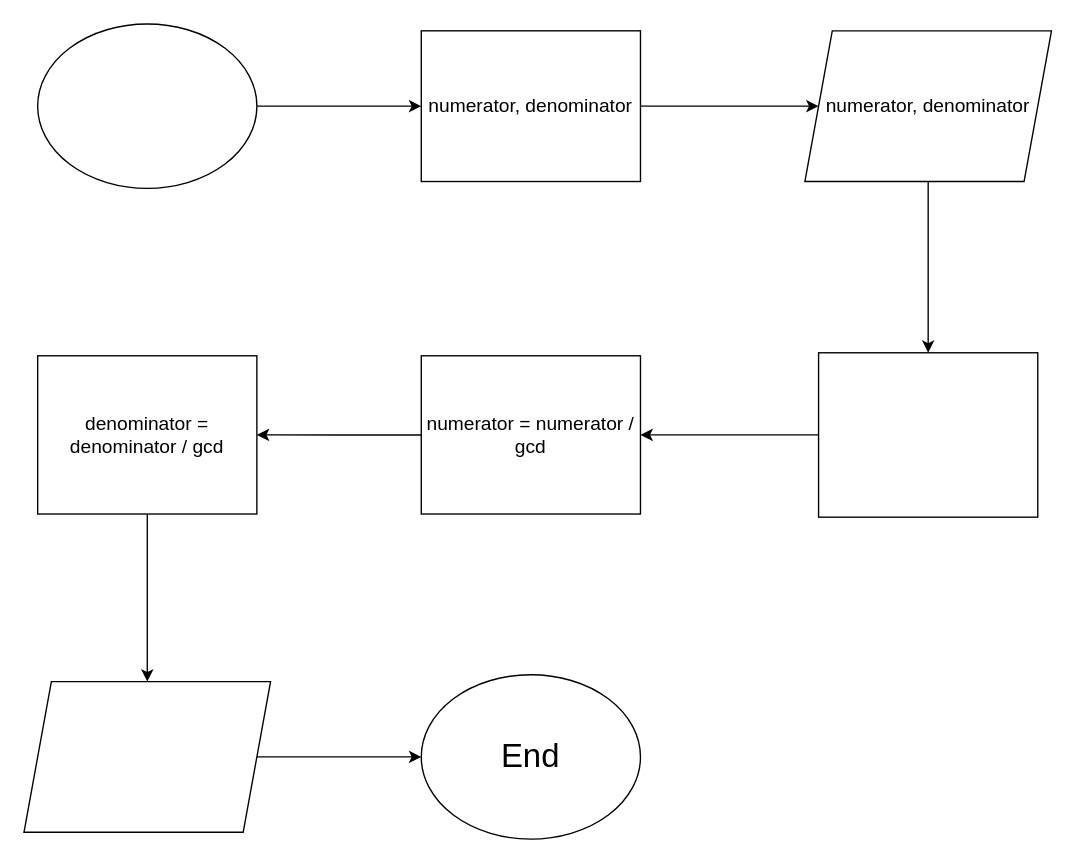
The diagram is 1075 pixels wide and 863 high, and some of its shapes have lost their labels. The shapes that lost their labels are listed below. From the top down, each one's centre as x and y in pixels, then its label:
the point at 146,105: Start
the point at 927,434: gcd = __gcd(numerator, denominator)
the point at 147,756: numerator/denominator
